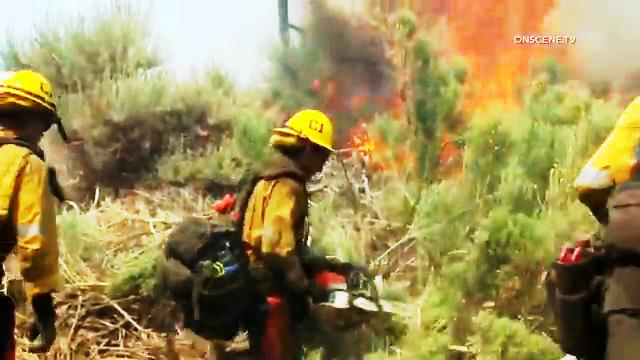fire: (440, 3, 519, 113), (349, 109, 394, 162)
